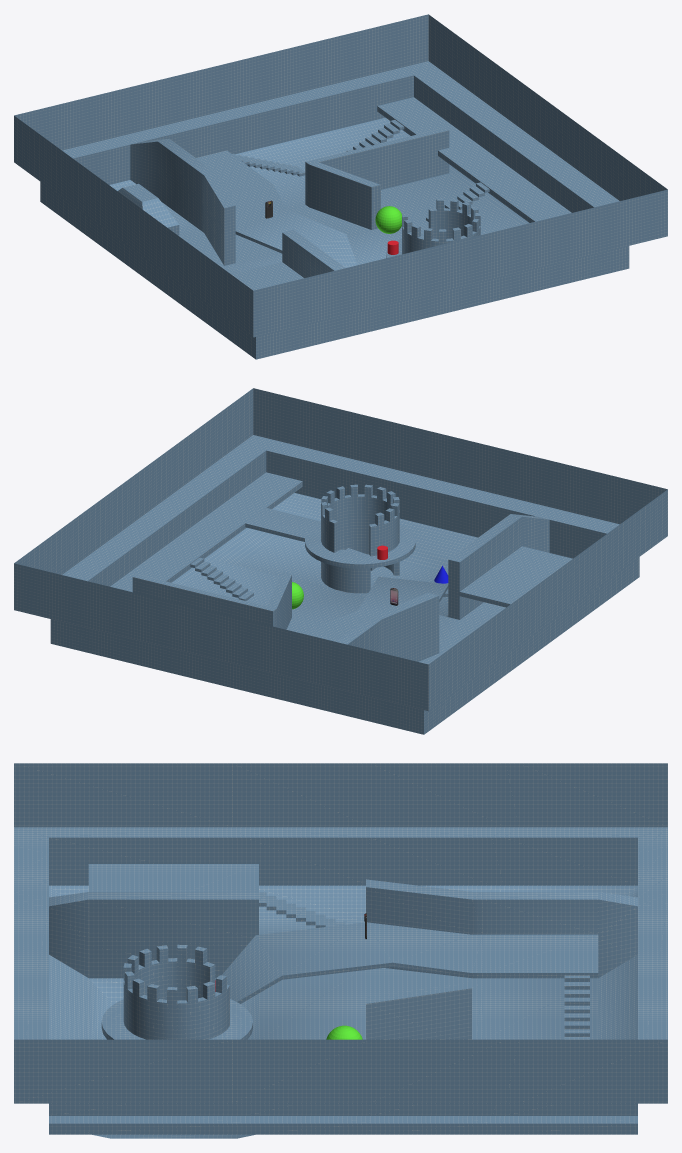
The picture shows the model from 3 angles, top to bottom: view 1: azimuth 30°, elevation 25°; view 2: azimuth 150°, elevation 25°; view 3: azimuth 270°, elevation 25°; orthographic projection. The views are drawn at different scales.
Parts seen in each view (by area): view 1: Cube.004, interactive_Sphere; view 2: Cube.004; view 3: Cube.004.
Part boxes in pixels (box(x1,y1,x2,y2)): Cube.004: box(14, 14, 667, 359); interactive_Sphere: box(375, 206, 401, 233); Cube.004: box(14, 388, 667, 734); Cube.004: box(14, 763, 667, 1138).
Bounding box in the file's own units: 34.36 × 8.6 × 34.36.
6 materials, 2 textured.
